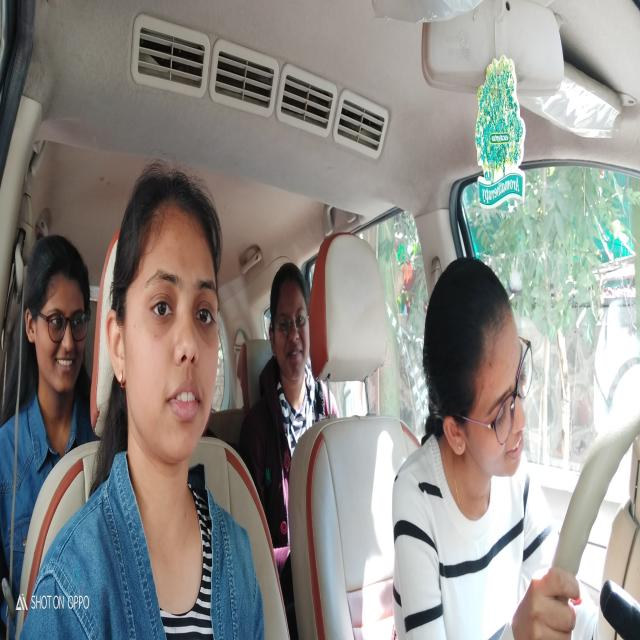drowsy: (433, 244, 540, 515)
person: (106, 148, 230, 492), (17, 212, 99, 449), (258, 242, 324, 430)
